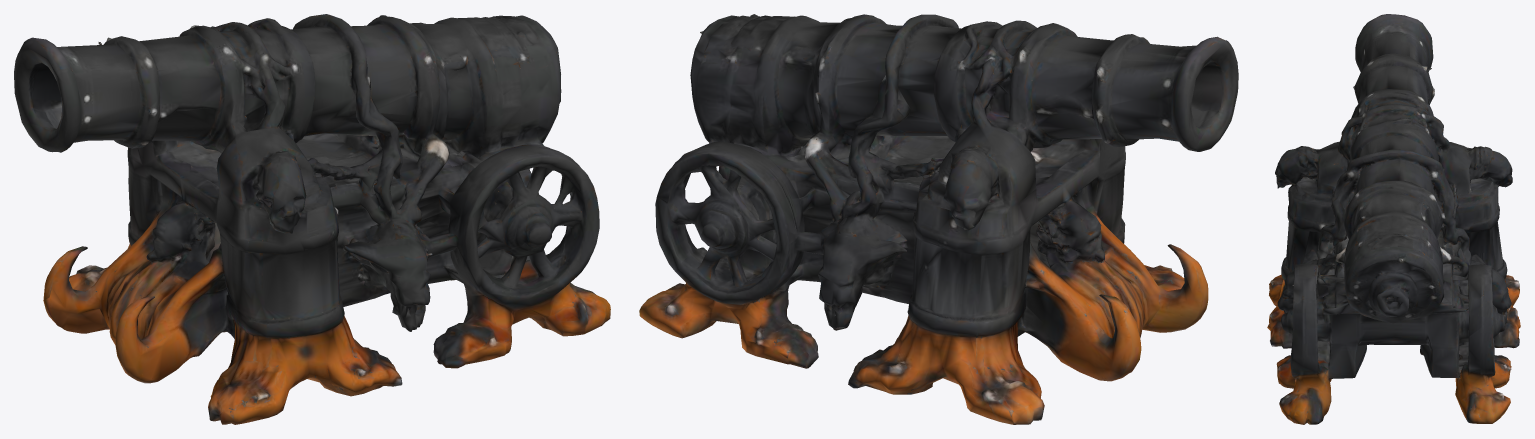
The model's file is tower_cannon_opt.glb.
3 views of the same model, side by side, from view 1: azimuth 30°, elevation 25°; view 2: azimuth 150°, elevation 25°; view 3: azimuth 270°, elevation 25° (orthographic). The views are drawn at different scales.
Size of the model in its own units: 2 by 1.29 by 1.22.
Materials: 1 (1 with a texture image).
